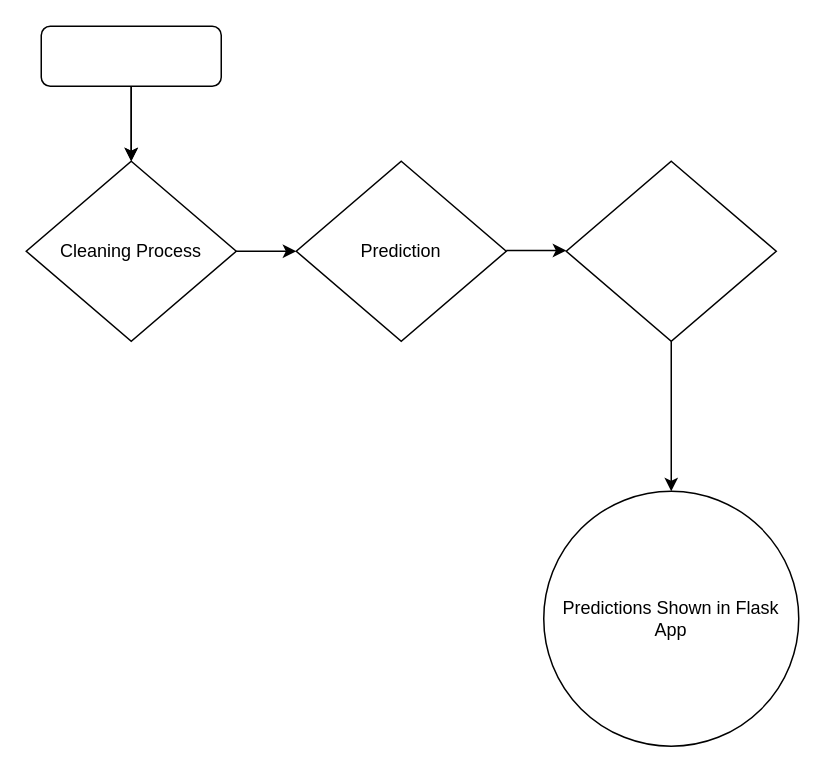
The diagram is 825 pixels wide and 773 high, and some of its shapes have lost their labels. Each missing label, with the box of its shape:
Raw Data: (40, 25, 221, 86)
SQL Database (Cleaned Data + Prediction): (565, 160, 776, 341)
